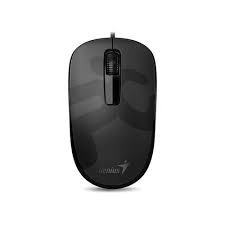mouse: (60, 33, 165, 190)
